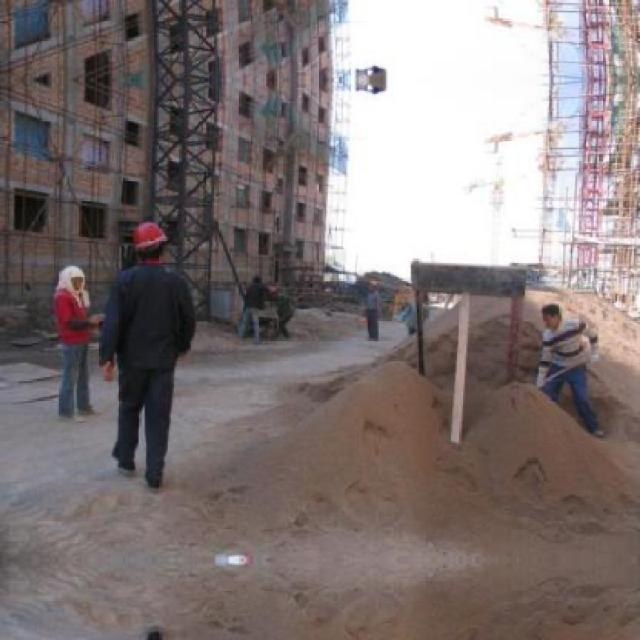helmet: (132, 218, 170, 262)
